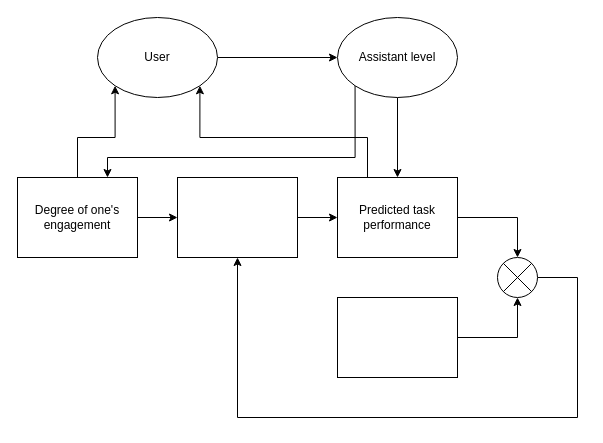
Some shapes in this 603 by 443 pixel diagram are drawn without their labels. The shapes that lost their labels are listed below. From the top down, each one's centre as x and y in pixels, then its label:
the point at 237,217: self-efficacy
the point at 397,337: actual task performance
